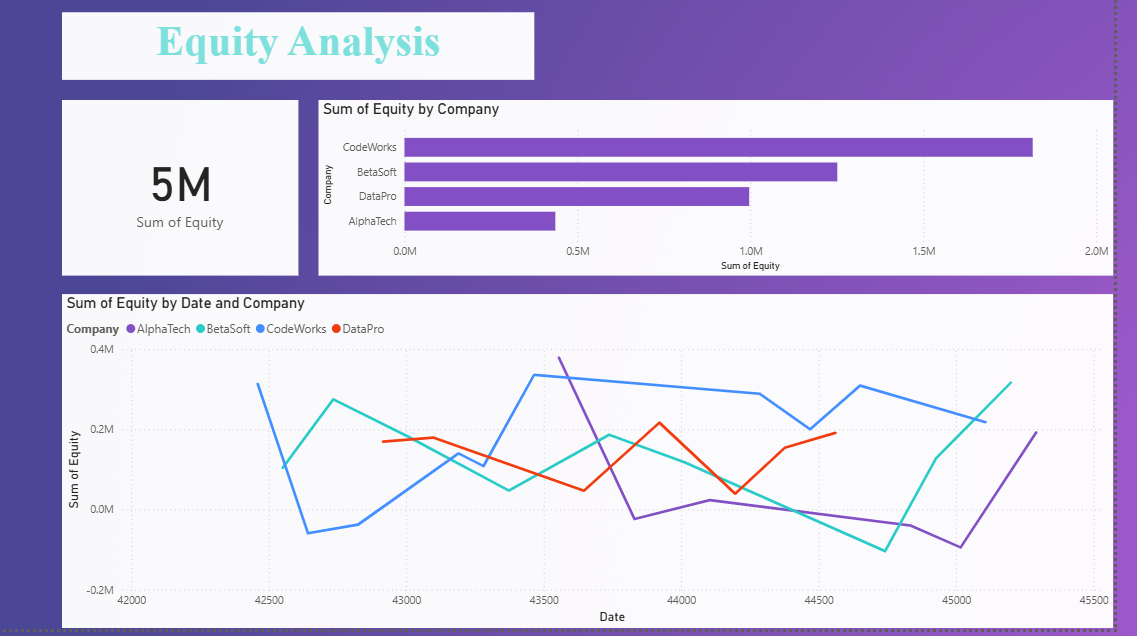

This screenshot's page, from the dashboard's own definition file:
{"tool":"powerbi","page":{"name":"Page 4","canvas":[1280,720],"ordinal":3},"visuals":[{"type":"lineChart","fields":{"Category":["BalanceSheet.Date"],"Series":["BalanceSheet.Company"],"Y":["Sum(BalanceSheet.Equity)"]},"box":[91.6,341.5,1188.4,377.7],"z":0},{"type":"card","fields":{"Values":["Sum(BalanceSheet.Equity)"]},"box":[91.6,122.1,267.1,198.4],"z":1000},{"type":"textbox","box":[91.6,22.9,534.1,76.3],"z":2000},{"type":"barChart","fields":{"Y":["Sum(BalanceSheet.Equity)"],"Category":["BalanceSheet.Company"]},"box":[381.5,122.1,898.5,198.4],"z":3000}]}

Visuals, with their boxes in screenshot pixels (x1, y1, x2, y2), scaled from the page's 1280x720 canvas onto the 1137x636 screenshot:
lineChart - BalanceSheet.Date x BalanceSheet.Company: select_region(81, 302, 1136, 635)
card - Sum(BalanceSheet.Equity): select_region(81, 108, 319, 283)
textbox: select_region(81, 20, 556, 88)
barChart - Sum(BalanceSheet.Equity) x BalanceSheet.Company: select_region(339, 108, 1136, 283)
